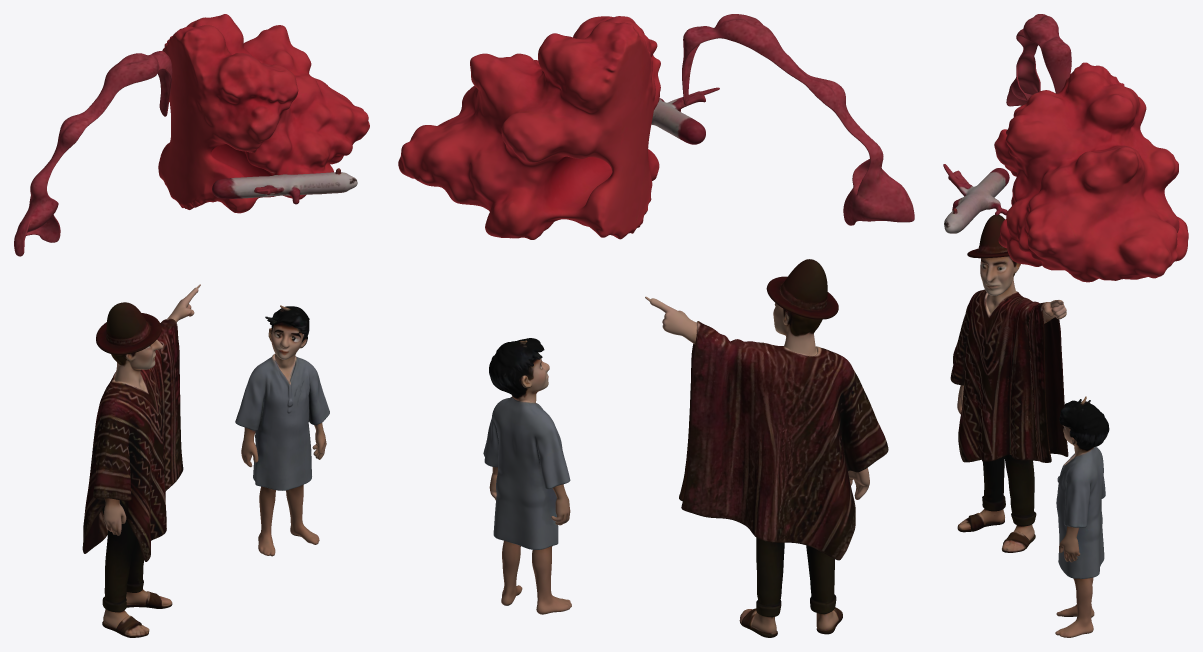
The model's file is 70-la-noche-de-la-loma-de-las-maracas-optimized.glb.
The picture shows the model from 3 angles, left to right: view 1: azimuth 30°, elevation 25°; view 2: azimuth 150°, elevation 25°; view 3: azimuth 270°, elevation 25°; orthographic projection. The views are drawn at different scales.
Visible parts, largest first — view 1: tripo_node_89f8f408-1304-4836-ad5f-884e2d987ce0; view 2: tripo_node_89f8f408-1304-4836-ad5f-884e2d987ce0; view 3: tripo_node_89f8f408-1304-4836-ad5f-884e2d987ce0.
Part boxes in pixels (x1=…): tripo_node_89f8f408-1304-4836-ad5f-884e2d987ce0: x1=14, y1=14, x2=369, y2=637; tripo_node_89f8f408-1304-4836-ad5f-884e2d987ce0: x1=398, y1=14, x2=914, y2=637; tripo_node_89f8f408-1304-4836-ad5f-884e2d987ce0: x1=943, y1=14, x2=1188, y2=637.
Size of the model in its own units: 0.7283 by 1 by 0.4209.
1 material, 1 textured.
